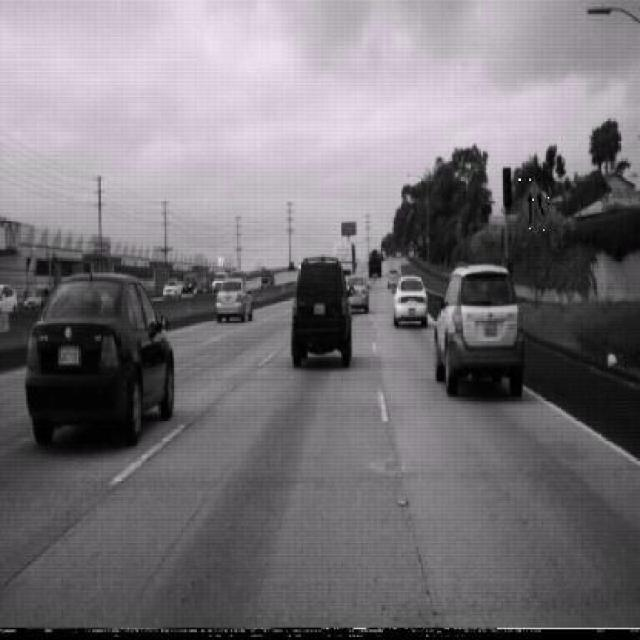addedLane: (518, 178, 550, 240)
